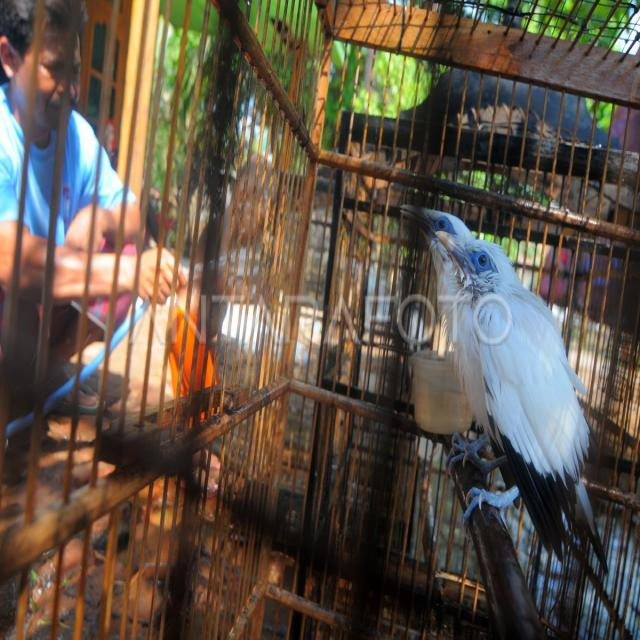Jalak Bali: (437, 227, 596, 559), (396, 190, 500, 474)
